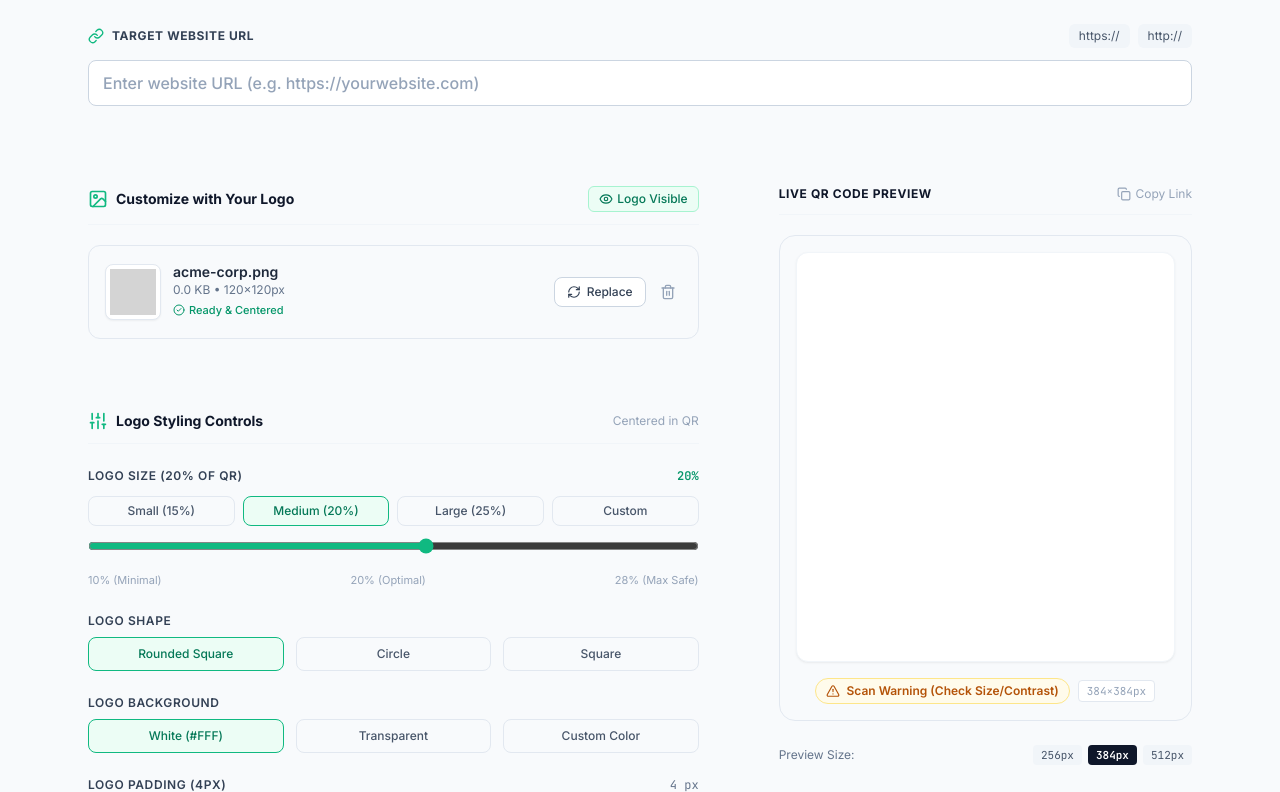
Test: Custom Logo QR Code Generator Suite › 5. React UI Integration (UrlQrGenerator Component) › handles simulated logo upload, reveals styling controls, and supports removal
Earlier steps of the test are not shown.
Check: the element that starts with "Customize with Your Logo" is shown, box [64, 162, 723, 363]
Check: the text "acme-corp.png" is shown, box [173, 262, 285, 282]
Click the button "Small (15%)".
click(161, 511)  # box [88, 496, 235, 526]
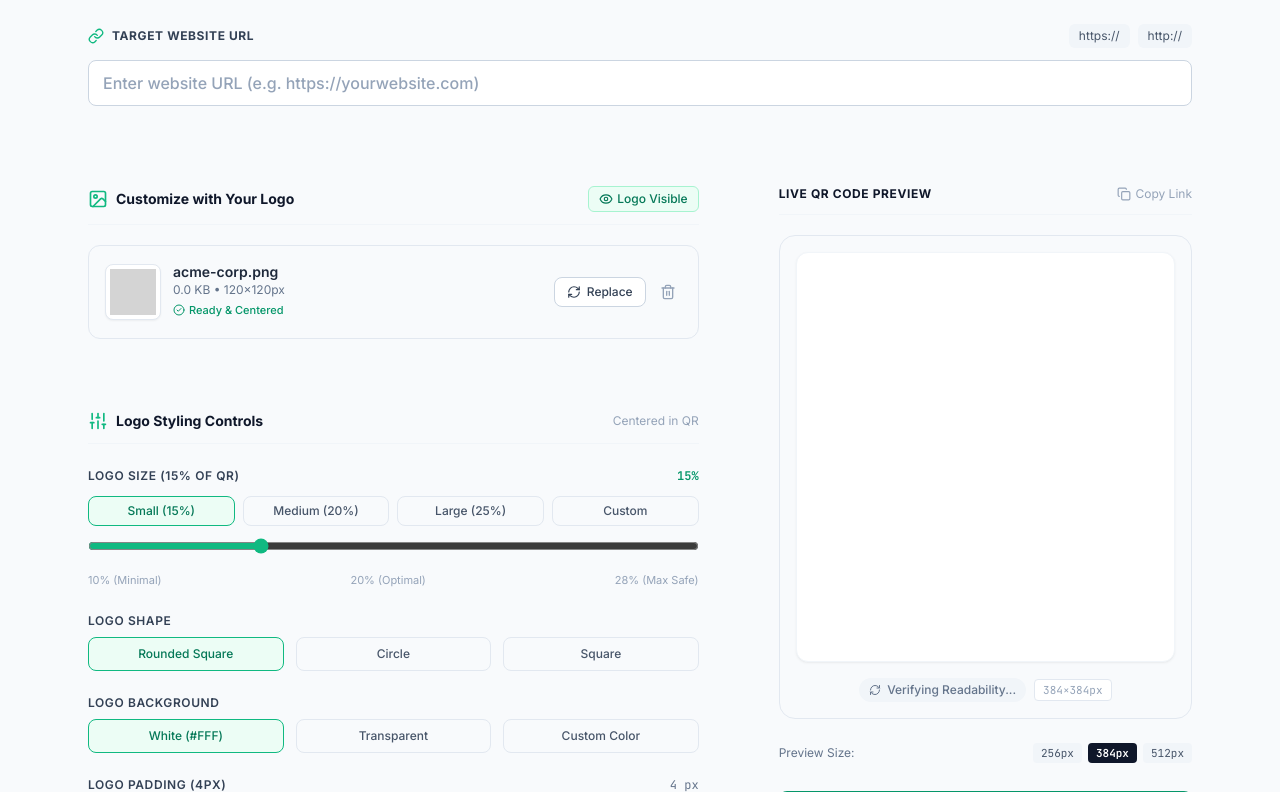
Check: the text "15%" is shown, box [677, 468, 699, 484]
Click the button "Circle".
click(393, 654)  # box [296, 636, 491, 670]
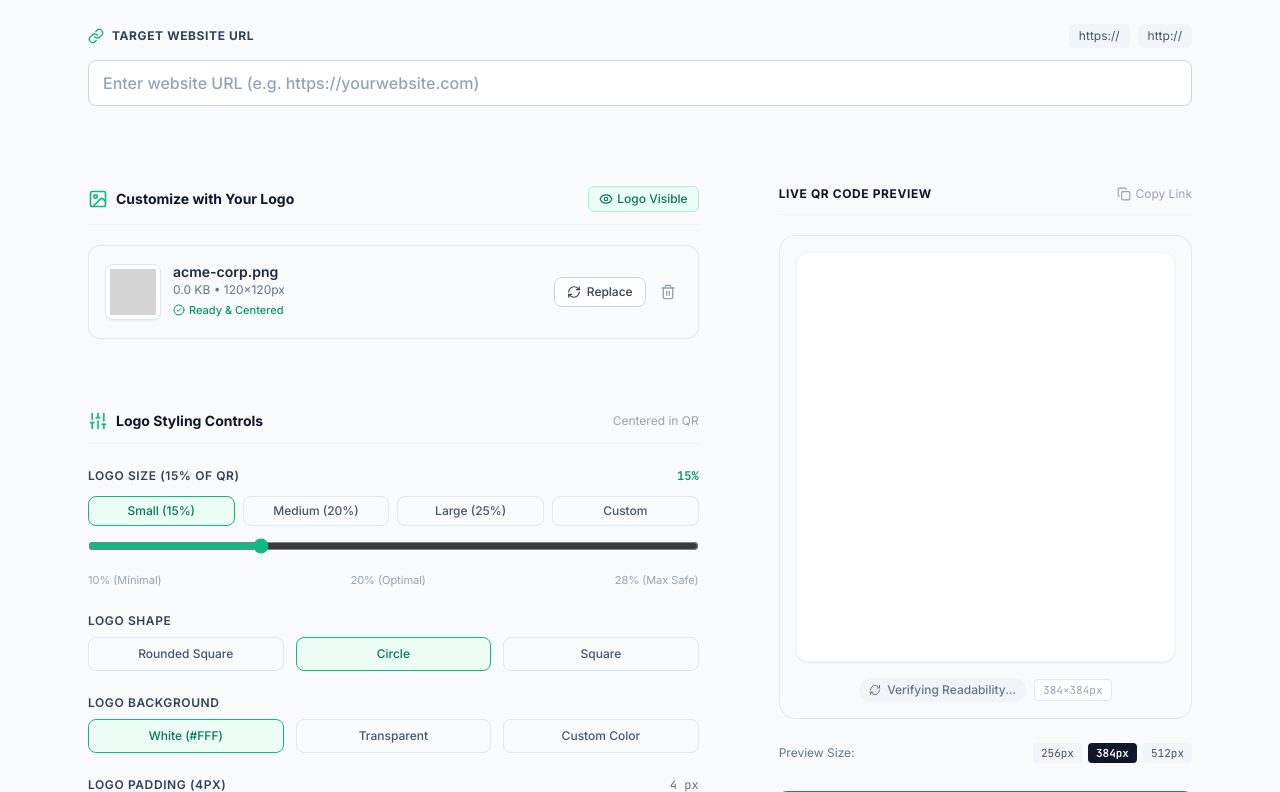
Click the button titled "Remove logo".
click(668, 292)  # box [654, 278, 682, 306]
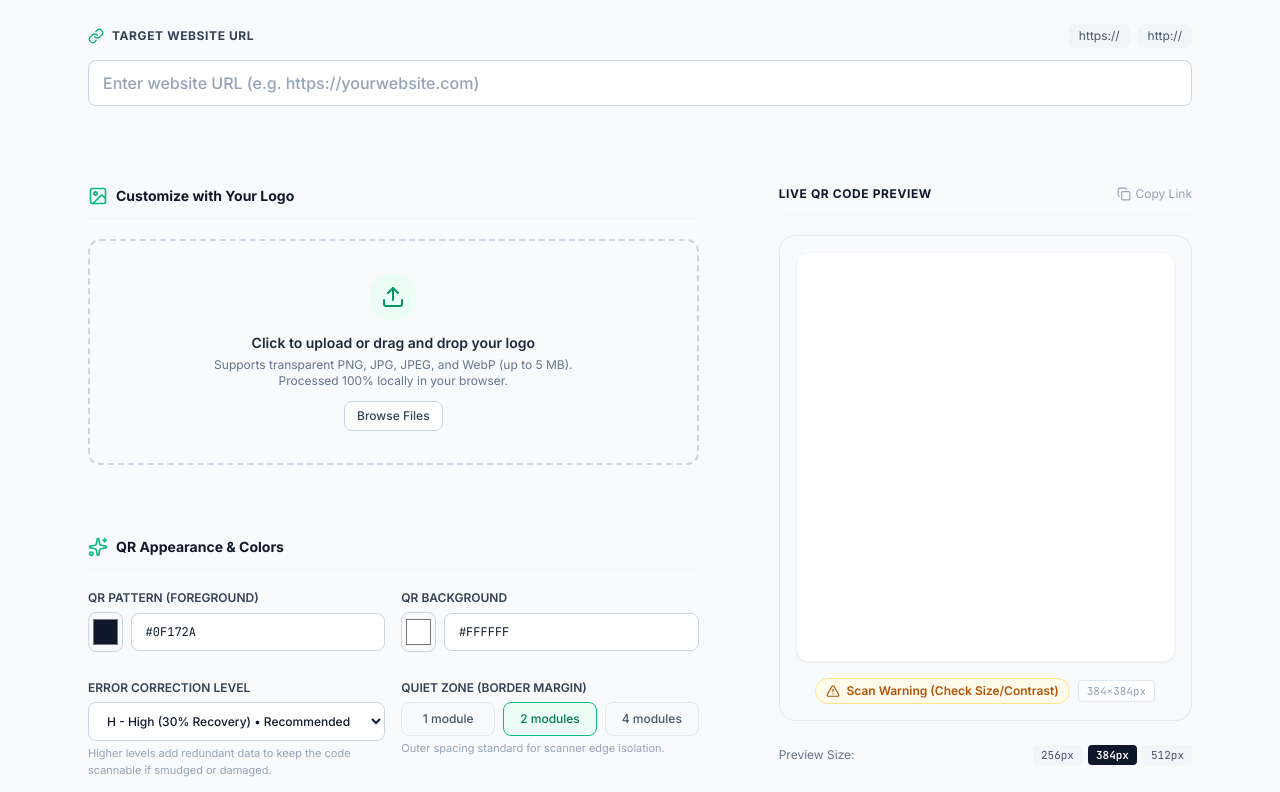
Check: the heading "Logo Styling Controls" is gone
Check: the heading "Click to upload or drag and drop your logo" is shown, box [252, 334, 535, 351]
